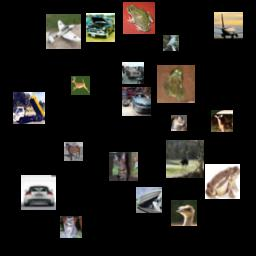airplane: (46, 14, 81, 49), (214, 12, 243, 41)
automobile: (21, 175, 56, 210), (86, 13, 115, 42), (122, 87, 151, 116), (122, 62, 144, 84)
bird: (166, 140, 204, 178), (171, 200, 197, 226), (163, 35, 179, 51)
cat: (109, 152, 138, 181), (60, 216, 82, 238), (171, 115, 187, 131)
deer: (211, 110, 233, 132), (71, 76, 90, 95)
frog: (157, 65, 195, 103), (205, 164, 240, 199), (123, 2, 155, 34)
ship: (136, 187, 162, 213)
truck: (13, 92, 45, 124)
